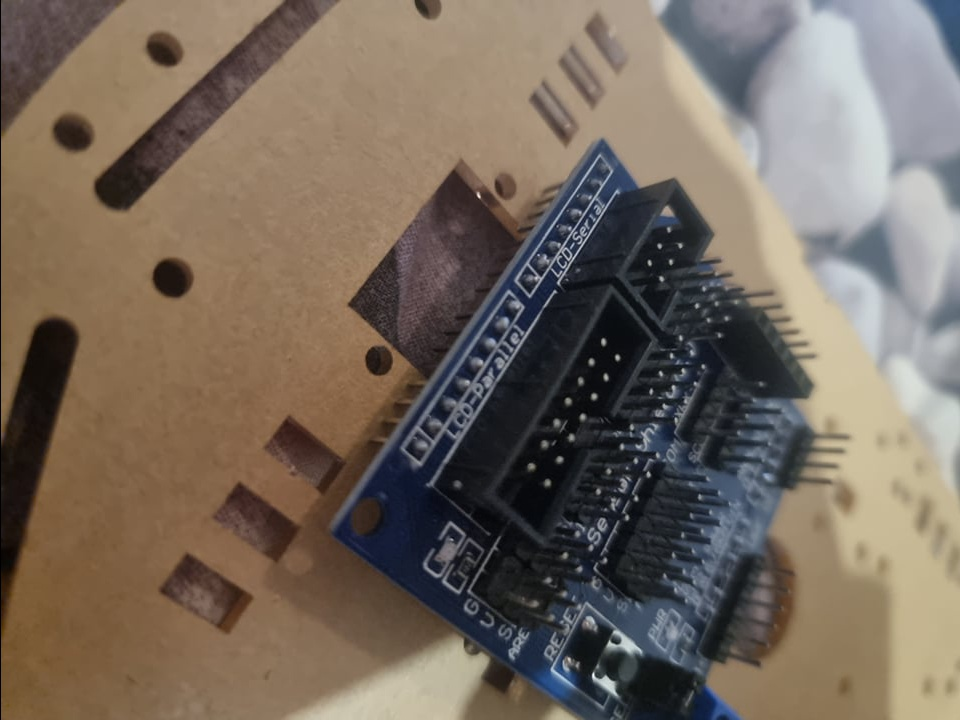5V EXPANSION: (326, 139, 850, 720)
